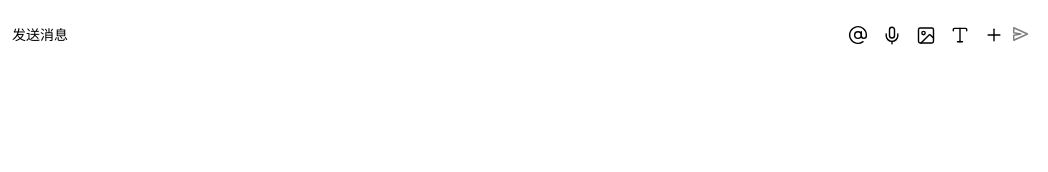
FlareComposer interaction boundaries › opens the default more actions in uncontrolled simple mode
Click the button named "更多" at (985, 35), box [968,17,1002,53]
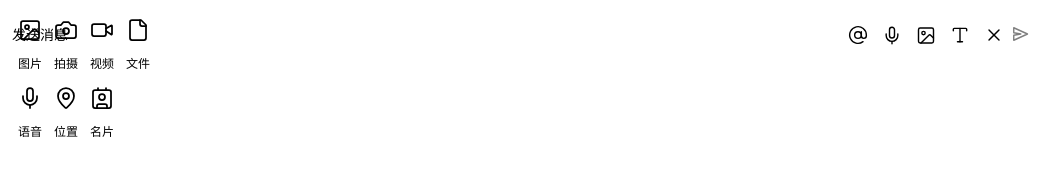
Expected: the number of buttons with class "flare-action-panel__tile" is 7
Expected: the footer shows "图片", [12,12,48,80]
Expected: the footer shows "文件", [120,12,156,80]
